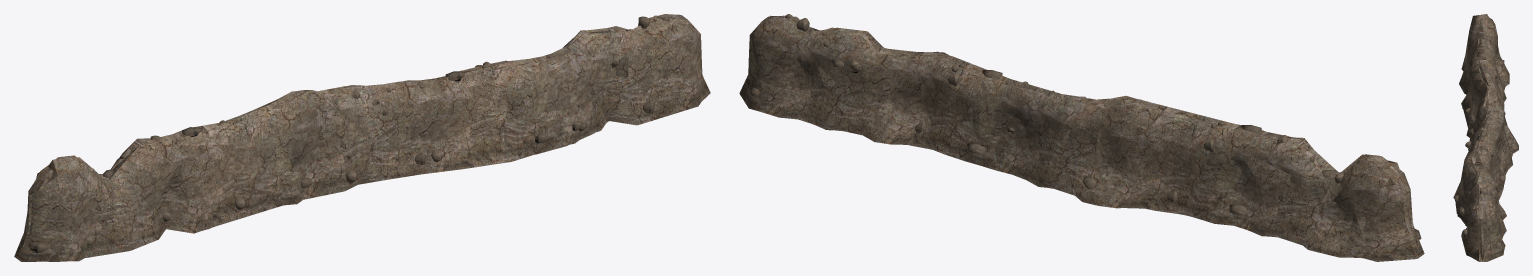
The model's file is dirtwall_X3.dae.
3 renders of one model, left to right at view 1: azimuth 30°, elevation 25°; view 2: azimuth 150°, elevation 25°; view 3: azimuth 270°, elevation 25°, orthographic. The views are drawn at different scales.
Parts seen in each view (by area): view 1: matrixTransform_2, matrixTransform_1, matrixTransform; view 2: matrixTransform, matrixTransform_1, matrixTransform_2; view 3: matrixTransform, matrixTransform_2, matrixTransform_1.
Part boxes in pixels (<box>): matrixTransform_2: <box>19,17,700,257</box>; matrixTransform_1: <box>15,15,703,261</box>; matrixTransform: <box>14,14,710,261</box>; matrixTransform: <box>739,14,1421,261</box>; matrixTransform_1: <box>752,15,1424,258</box>; matrixTransform_2: <box>758,17,1420,258</box>; matrixTransform: <box>1453,15,1518,261</box>; matrixTransform_2: <box>1455,14,1512,259</box>; matrixTransform_1: <box>1454,15,1512,261</box>.
Size of the model in its own units: 12.48 by 1.68 by 1.63.
1 material, 1 textured.
